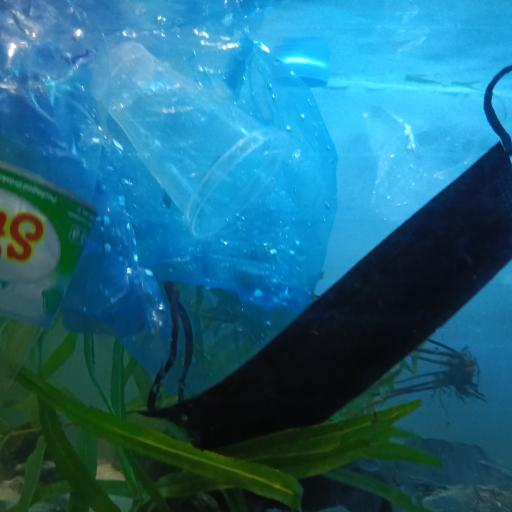mask: (139, 64, 512, 453)
plastic_bag: (2, 2, 340, 395), (362, 98, 512, 223)
plastic_bottle: (0, 0, 109, 403)
plastic_cup: (87, 38, 289, 236)
